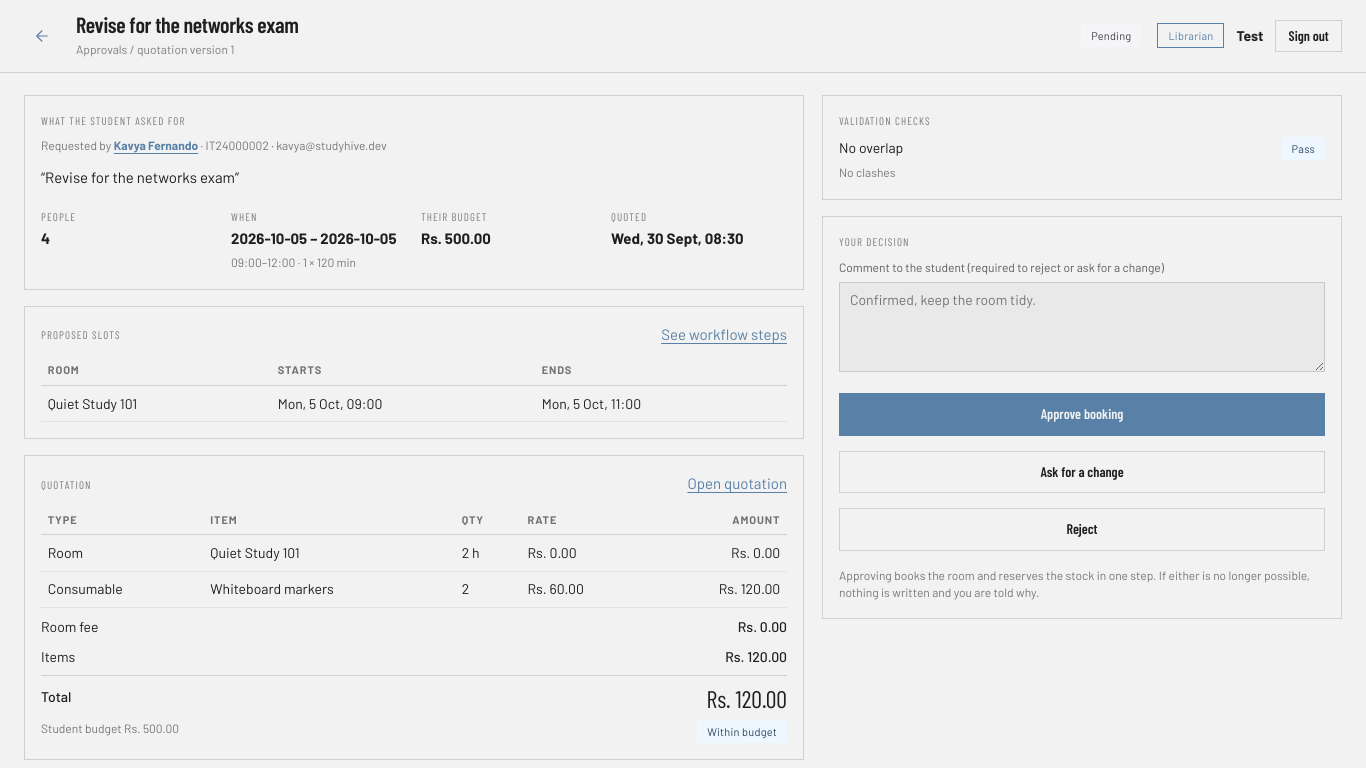
Test case: W-04 review proposal › explains a 409 room conflict on approval
This screenshot has width=1366, height=768.
Click the button "Approve booking": (1082, 414) [839, 393, 1325, 436]
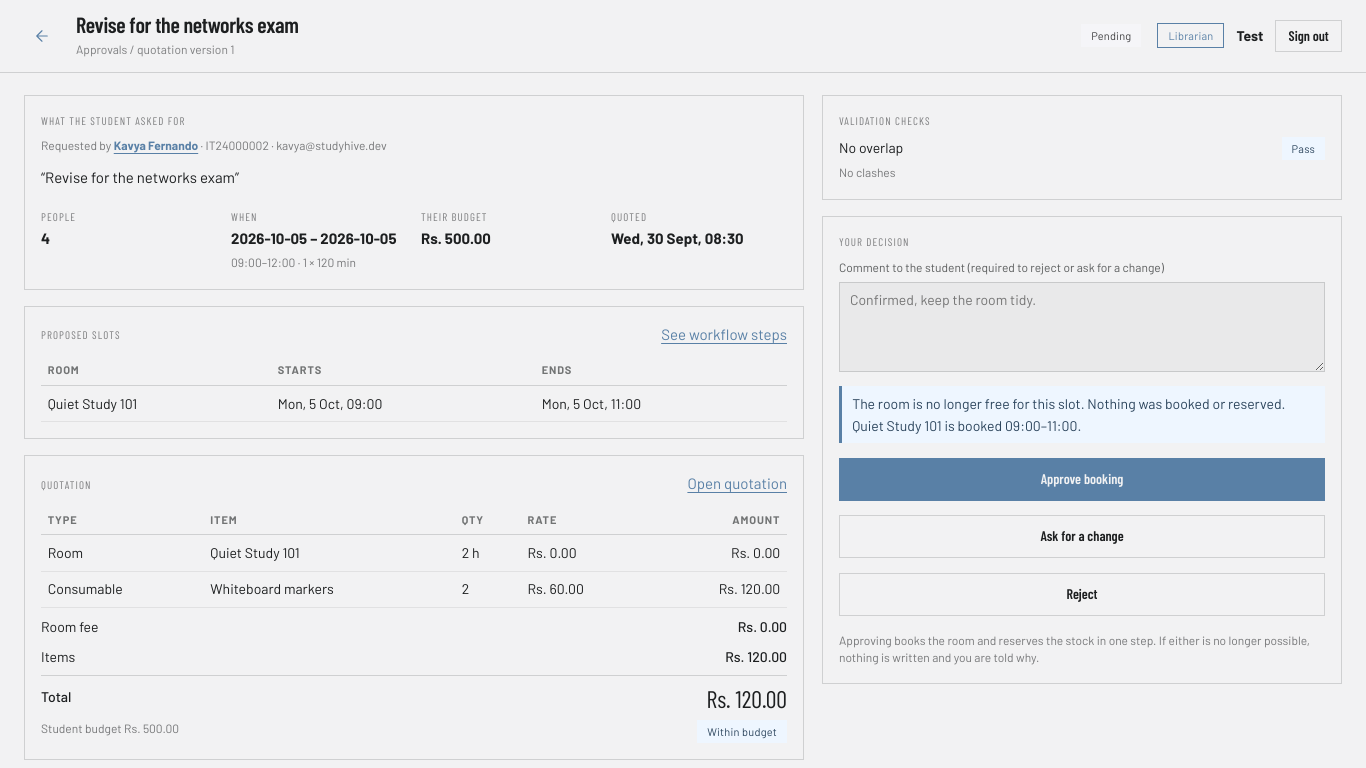
Now the message shows "The room is no longer free for this slot. Nothing was booked or reserved.", box [852, 395, 1286, 434]
Now the message shows "Quiet Study 101 is booked 09:00–11:00.", box [852, 395, 1286, 434]
